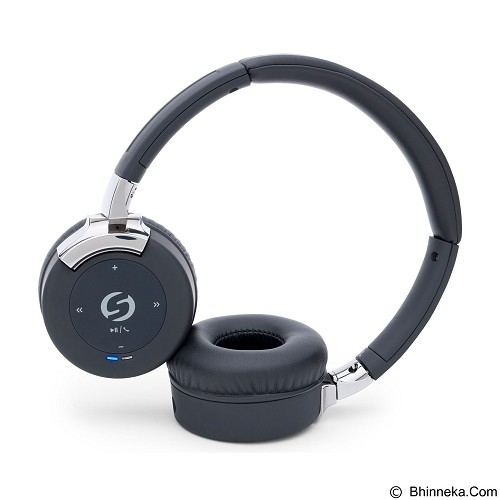Headphone: (30, 48, 470, 453)
